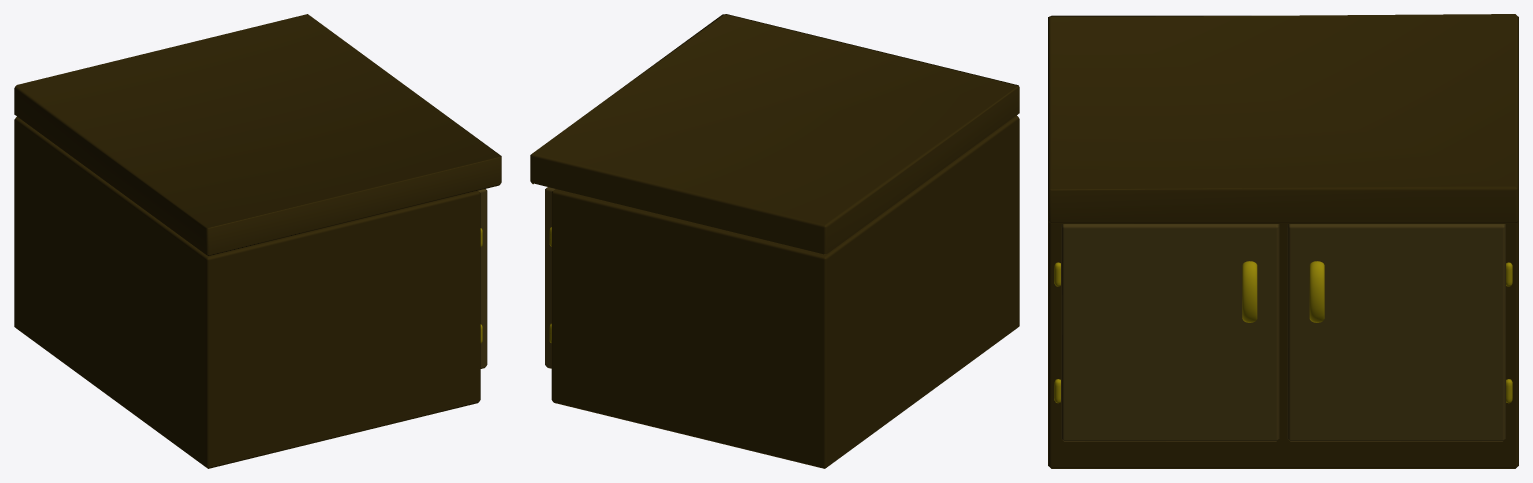
File: clearCounter 1.fbx
3 views of the same model, side by side, from view 1: azimuth 30°, elevation 25°; view 2: azimuth 150°, elevation 25°; view 3: azimuth 270°, elevation 25° (orthographic). The views are drawn at different scales.
Parts seen in each view (by area): view 1: Plane.002, Plane.001; view 2: Plane.002, Plane.001; view 3: Plane.002, Plane.001.
Boxes of the visible parts, box(x1,y1,x2,y2) form: Plane.002: box(14, 14, 501, 468); Plane.001: box(478, 189, 487, 368); Plane.002: box(530, 14, 1019, 468); Plane.001: box(545, 187, 554, 368); Plane.002: box(1048, 14, 1518, 468); Plane.001: box(1054, 224, 1512, 441).
Size of the model in its own units: 116 by 89.98 by 130.
